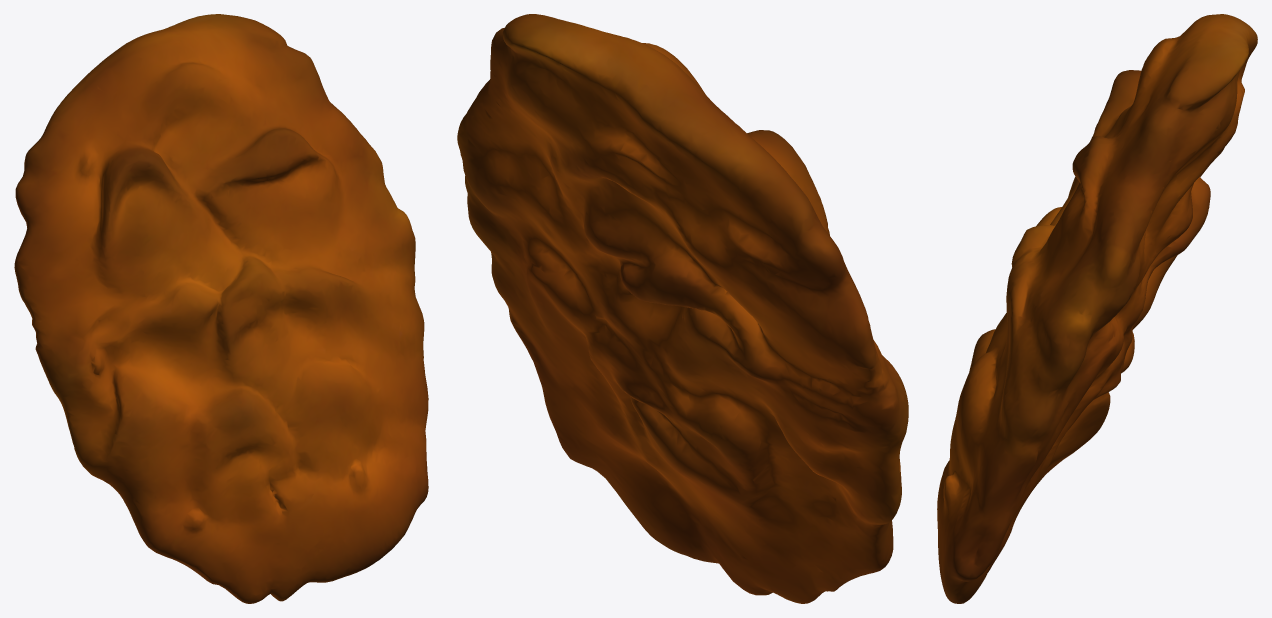
The model's file is Lava_01.fbx.
3 views of the same model, side by side, from view 1: azimuth 30°, elevation 25°; view 2: azimuth 150°, elevation 25°; view 3: azimuth 270°, elevation 25° (orthographic). The views are drawn at different scales.
Parts seen in each view (by area): view 1: Lava2_LOD0; view 2: Lava2_LOD0; view 3: Lava2_LOD0.
Part boxes in pixels (x1,y1,x2,y2): Lava2_LOD0: (14,14,428,603); Lava2_LOD0: (457,14,908,603); Lava2_LOD0: (937,14,1257,603).
Size of what is drawn, in the model's own units: 360 by 488 by 255.
